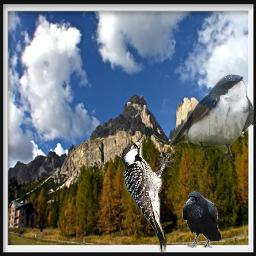Crow: (182, 191, 222, 248)
Swallow: (169, 74, 256, 161)
Woodpecker: (121, 134, 176, 254)
